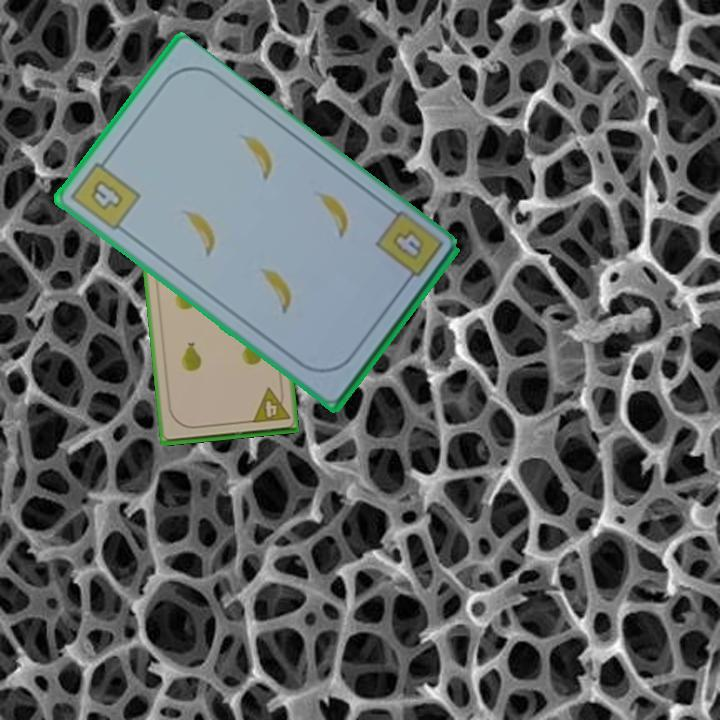4b: (66, 152, 143, 234), (391, 229, 423, 259)
4p: (248, 384, 292, 426)
